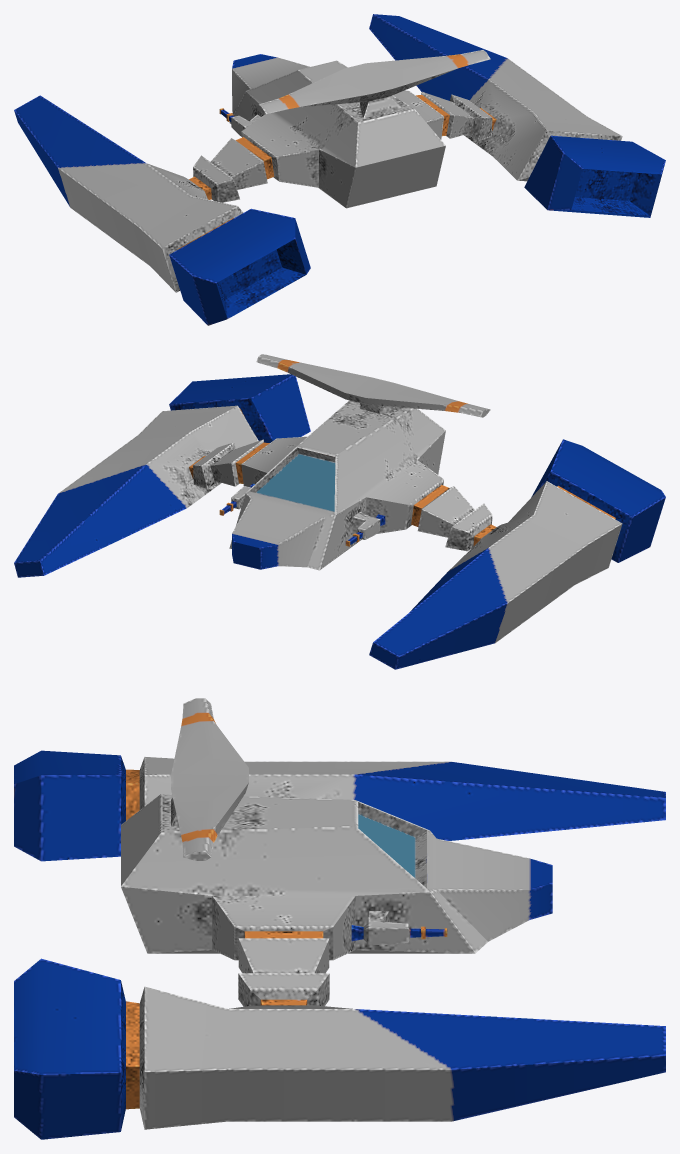
Rendered from SpaceShip.fbx.
3 views of the same model, one above another, from view 1: azimuth 30°, elevation 25°; view 2: azimuth 150°, elevation 25°; view 3: azimuth 270°, elevation 25° (orthographic). The views are drawn at different scales.
Visible parts, largest first — view 1: Cube; view 2: Cube; view 3: Cube.
Boxes of the visible parts, x1,y1,x2,y2 form: Cube: [14, 14, 665, 325]; Cube: [14, 354, 665, 669]; Cube: [14, 698, 665, 1139].
Bounding box in the file's own units: 1261 × 387 × 1072.
